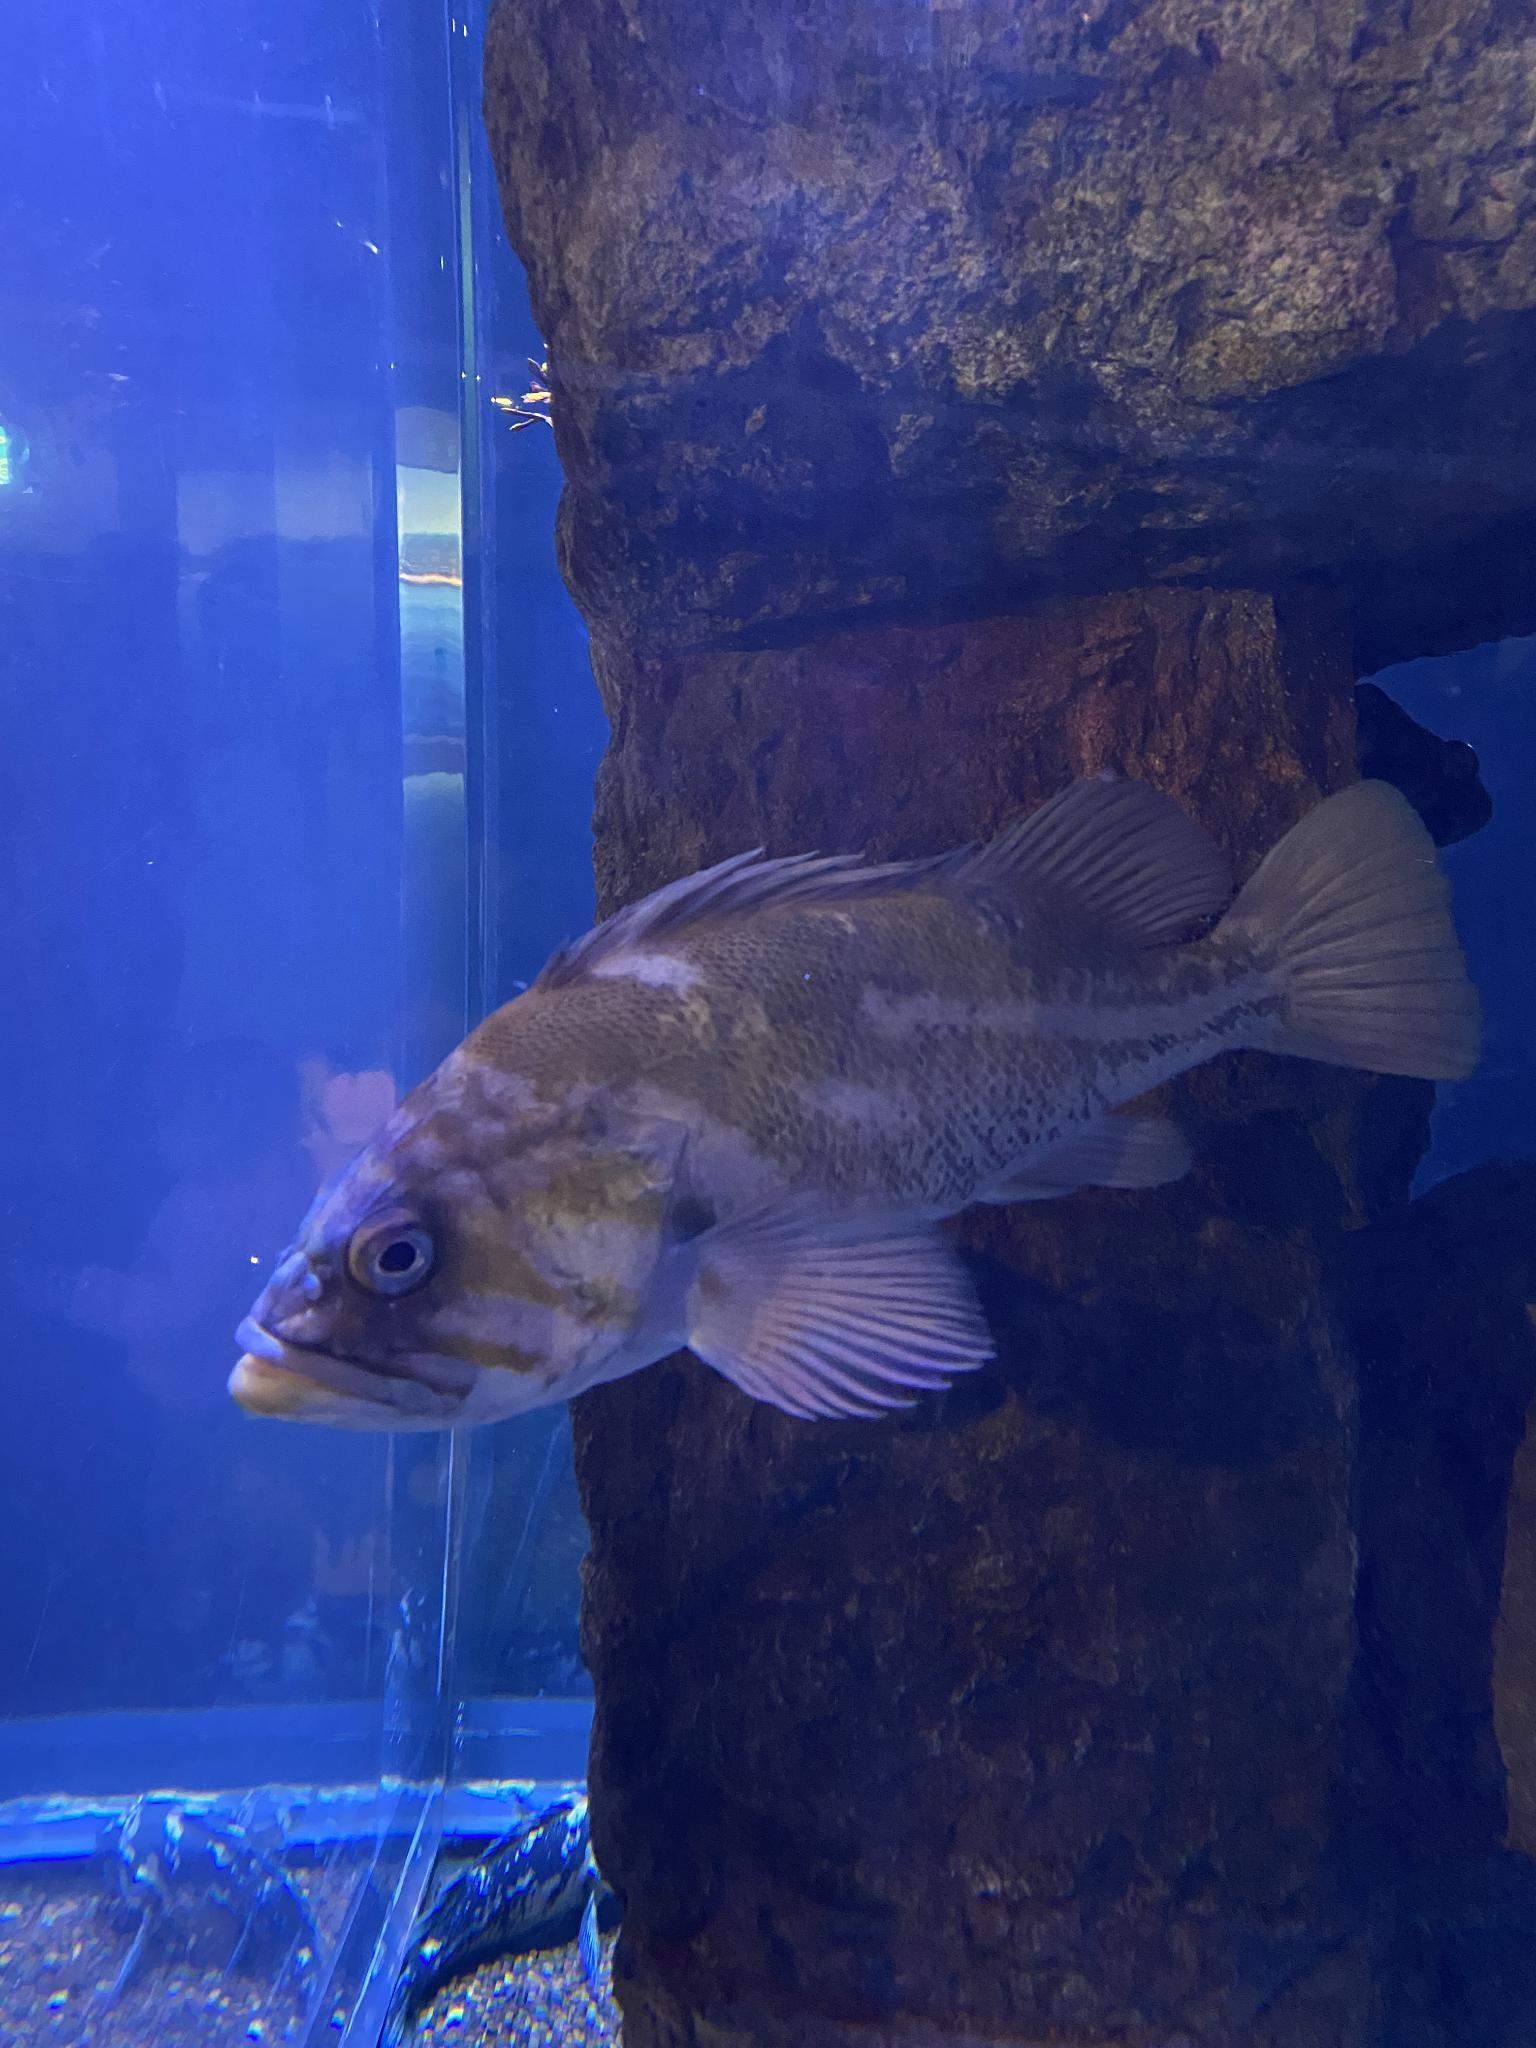fish: (182, 763, 1457, 1419)
